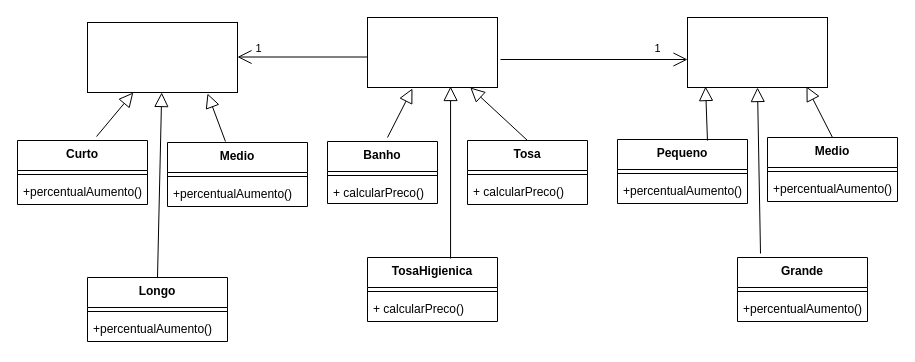
The diagram is 915 pixels wide and 362 high, and some of its shapes have lost their labels. Here are the shapes that lost their labels. From the top down, the centre of each, then its label:
(x=162, y=57): <<interface>> Pelagem + percentualAumento()
(x=432, y=52): <<abstract>> Servico + calcularPreco()
(x=757, y=52): <<interface>> Porte + percentualAumento()
